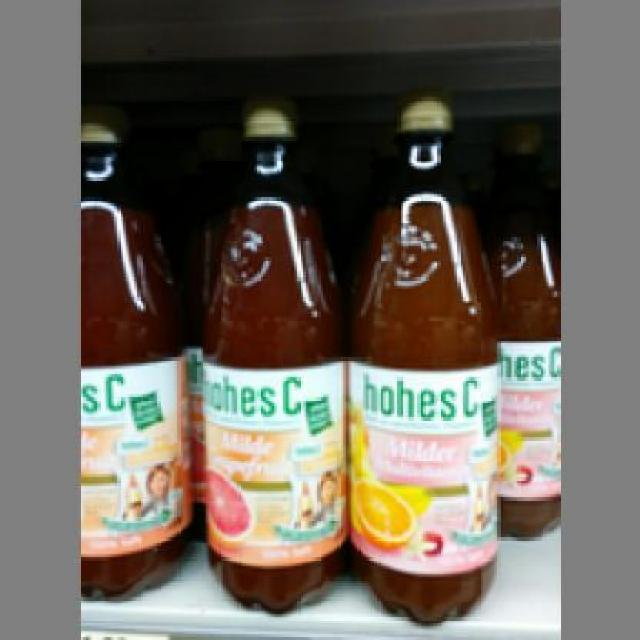Juice: (343, 89, 503, 626), (196, 95, 350, 614), (76, 100, 192, 594)
